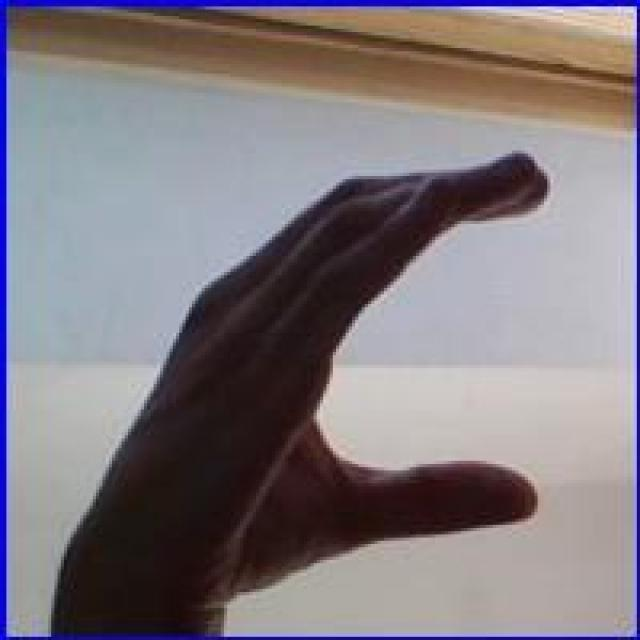C: (138, 149, 563, 571)
